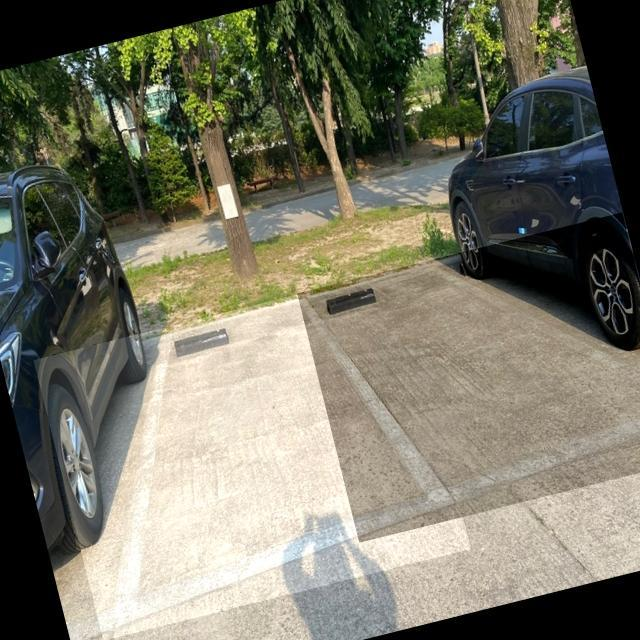empty: (104, 294, 460, 640), (298, 257, 640, 522)
